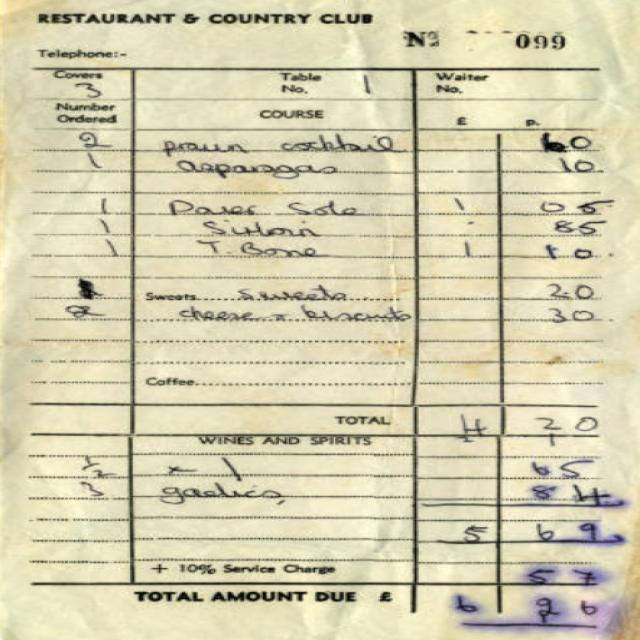items: (9, 130, 631, 357)
shop: (23, 5, 397, 32)
tot: (108, 584, 640, 627)
